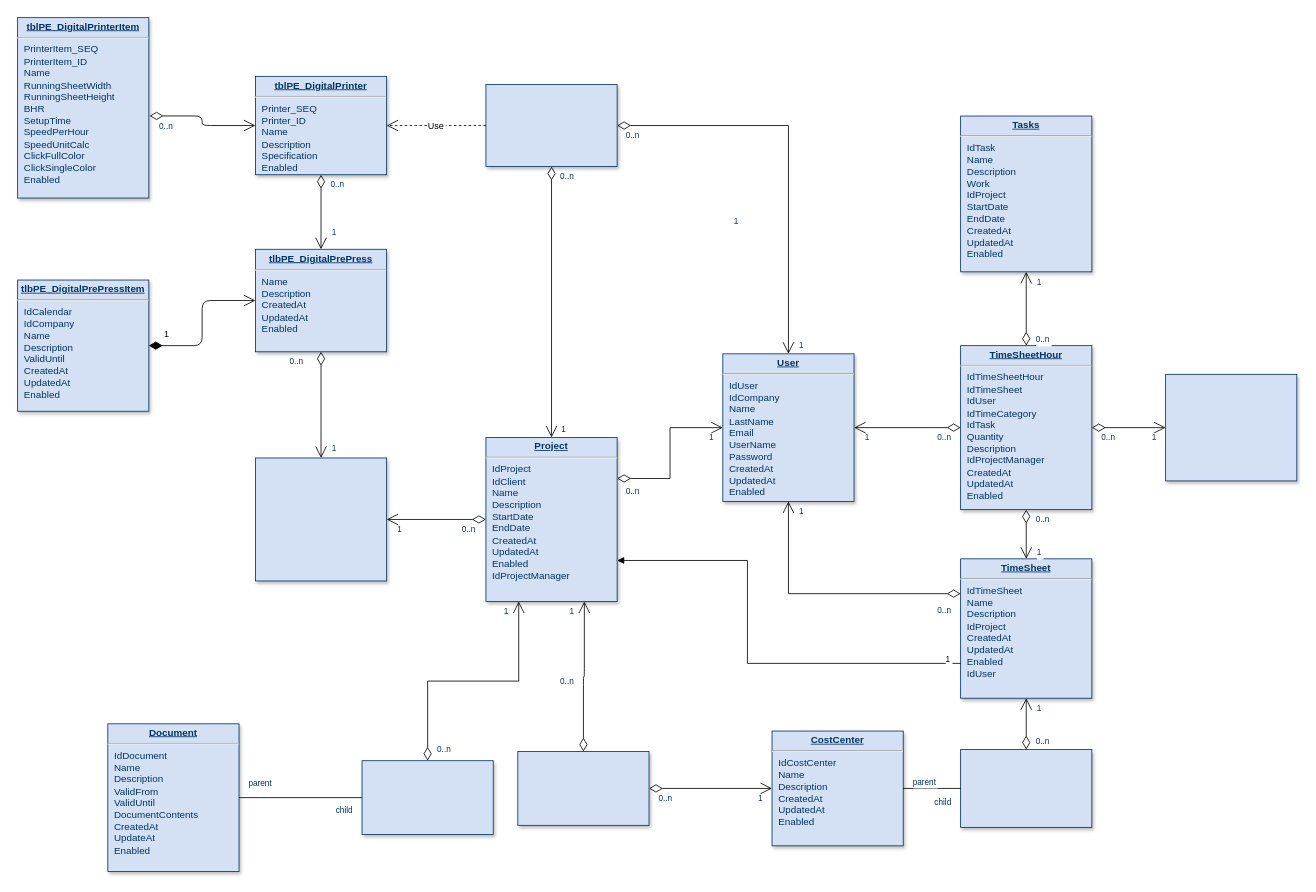
Image size: 1316x892. Some labels were removed from this diagram. The shapes that lost their labels are listed below. From the top down, each one's centre as x and y in pixels, then its label:
At point (552, 126): "UserProjectRole IdUserProjectRole IdRole IdProject IdUser".
At point (1232, 428): "TimeCategory IdTimeCategory Name Description CreatedAt UpdatedAt Enabled".
At point (321, 520): "Client IdClient IdCompany Name Description CreatedAt UpdatedAt Enabled".
At point (428, 798): "ProjectDocument IdProjectDocument IdProject IdDocument".
At point (584, 789): "ProjectCostCenter IdProjectCostCenter IdProject IdCostCenter".
At point (1027, 789): "TimeSheetCostCenter IdTimeSheetCostCenter IdTimeSheet IdCostCenter".
